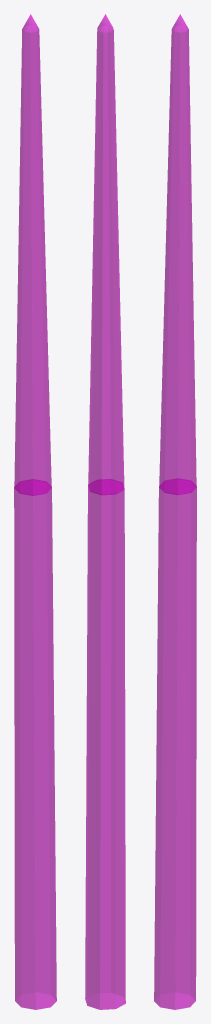
Rendered from SM_Veh_Ship_L_Mast_Middle_02_Collision.fbx.
The picture shows the model from 3 angles, left to right: view 1: azimuth 90°, elevation 25°; view 2: azimuth 210°, elevation 25°; view 3: azimuth 270°, elevation 25°; orthographic projection.
Visible parts, largest first — view 1: SM_Veh_Ship_L_Mast_Middle_02_Collision; view 2: SM_Veh_Ship_L_Mast_Middle_02_Collision; view 3: SM_Veh_Ship_L_Mast_Middle_02_Collision.
Part boxes in pixels (x1,y1,x2,y2): SM_Veh_Ship_L_Mast_Middle_02_Collision: [14, 14, 56, 1009]; SM_Veh_Ship_L_Mast_Middle_02_Collision: [85, 14, 125, 1009]; SM_Veh_Ship_L_Mast_Middle_02_Collision: [154, 14, 196, 1009].
Size of the model in its own units: 143 by 3720 by 146.
